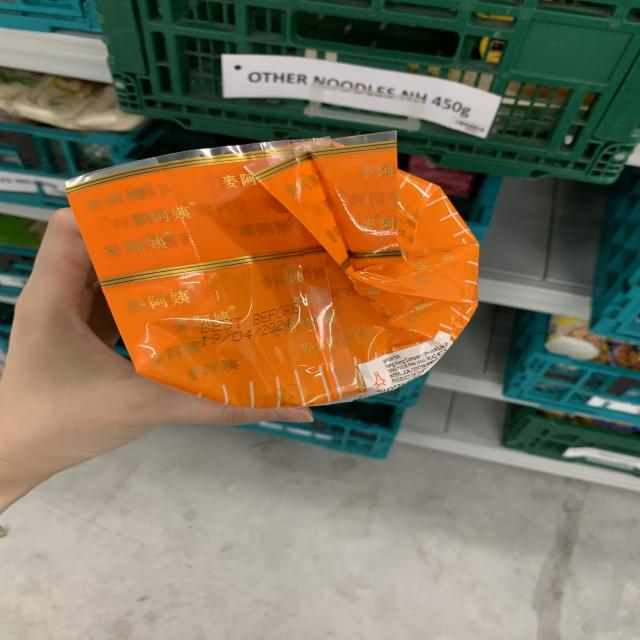object_name: (80, 175, 449, 368)
